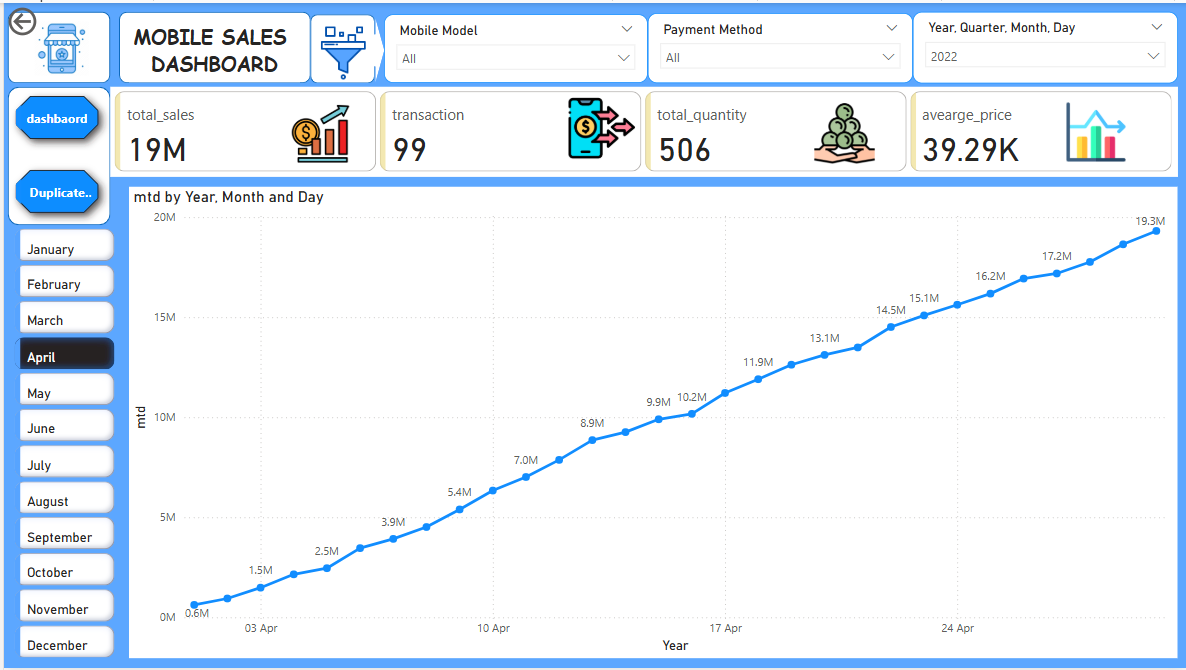

Layout of this report page (visuals, bound fields, positions):
{"tool":"powerbi","page":{"name":"mtd report","canvas":[1280,720],"ordinal":1},"visuals":[{"type":"shape","box":[3.6,9.7,111,77.2],"z":0},{"type":"shape","box":[3.8,90,111.2,150],"z":1000},{"type":"cardVisual","fields":{"Data":["mobile sales data.total_sales","mobile sales data.transaction","mobile sales data.total_quantity","mobile sales data.avearge_price"]},"box":[115,90.7,1155.8,97.4],"z":2000},{"type":"image","box":[0,14.5,124.3,68.8],"z":3000},{"type":"image","box":[540.5,95.3,214.7,82],"z":4000},{"type":"image","box":[811.9,101.3,196.6,79.6],"z":5000},{"type":"image","box":[1093.7,102.9,177,74.1],"z":6000},{"type":"image","box":[253.4,105,179.8,72.4],"z":7000},{"type":"slicer","fields":{"Values":["mobile sales data.Mobile Model"]},"box":[411.4,12.1,285.9,74.8],"z":8000},{"type":"slicer","fields":{"Values":["mobile sales data.Payment Method"]},"box":[697.3,10.9,287.1,76],"z":9000},{"type":"slicer","fields":{"Values":["custom_calendar.Date.Variation.Date Hierarchy.Year","custom_calendar.Date.Variation.Date Hierarchy.Quarter","custom_calendar.Date.Variation.Date Hierarchy.Month","custom_calendar.Date.Variation.Date Hierarchy.Day"]},"box":[984.5,9.7,287.1,77.2],"z":10000},{"type":"shape","box":[331.8,12.1,70,74.8],"z":11000},{"type":"image","box":[333,19.3,68.8,71.2],"z":12000},{"type":"shape","box":[392.1,16.9,19.3,70],"z":13000},{"type":"shape","box":[124.3,9.7,207.5,77.2],"z":14000},{"type":"textbox","box":[135.1,16.9,184.6,70],"z":15000},{"type":"actionButton","box":[0,0,100,40],"z":16000},{"type":"lineChart","fields":{"Y":["mobile sales data.mtd"],"Category":["custom_calendar.Date.Variation.Date Hierarchy.Year","custom_calendar.Date.Variation.Date Hierarchy.Month","custom_calendar.Date.Variation.Date Hierarchy.Day"]},"box":[135.3,198.9,1135.5,510.2],"z":17000},{"type":"advancedSlicerVisual","fields":{"Values":["custom_calendar.Date.Variation.Date Hierarchy.Month"]},"box":[6.9,240.1,118,480.3],"z":18000},{"type":"pageNavigator","box":[0,87.8,115.3,152.3],"z":19000}]}

Visuals, with their boxes on the page's 1280x720 design canvas (x1, y1, x2, y2). These are canvas units, not pixel positions in the 1186x670 screenshot, which may show the page scaled, cropped or inside an application window:
shape: 4, 10, 115, 87
shape: 4, 90, 115, 240
cardVisual - mobile sales data.total_sales x mobile sales data.transaction: 115, 91, 1271, 188
image: 0, 14, 124, 83
image: 540, 95, 755, 177
image: 812, 101, 1008, 181
image: 1094, 103, 1271, 177
image: 253, 105, 433, 177
slicer - mobile sales data.Mobile Model: 411, 12, 697, 87
slicer - mobile sales data.Payment Method: 697, 11, 984, 87
slicer - custom_calendar.Date.Variation.Date Hierarchy.Year x custom_calendar.Date.Variation.Date Hierarchy.Quarter: 984, 10, 1272, 87
shape: 332, 12, 402, 87
image: 333, 19, 402, 90
shape: 392, 17, 411, 87
shape: 124, 10, 332, 87
textbox: 135, 17, 320, 87
actionButton: 0, 0, 100, 40
lineChart - mobile sales data.mtd x custom_calendar.Date.Variation.Date Hierarchy.Year: 135, 199, 1271, 709
advancedSlicerVisual - custom_calendar.Date.Variation.Date Hierarchy.Month: 7, 240, 125, 720
pageNavigator: 0, 88, 115, 240
